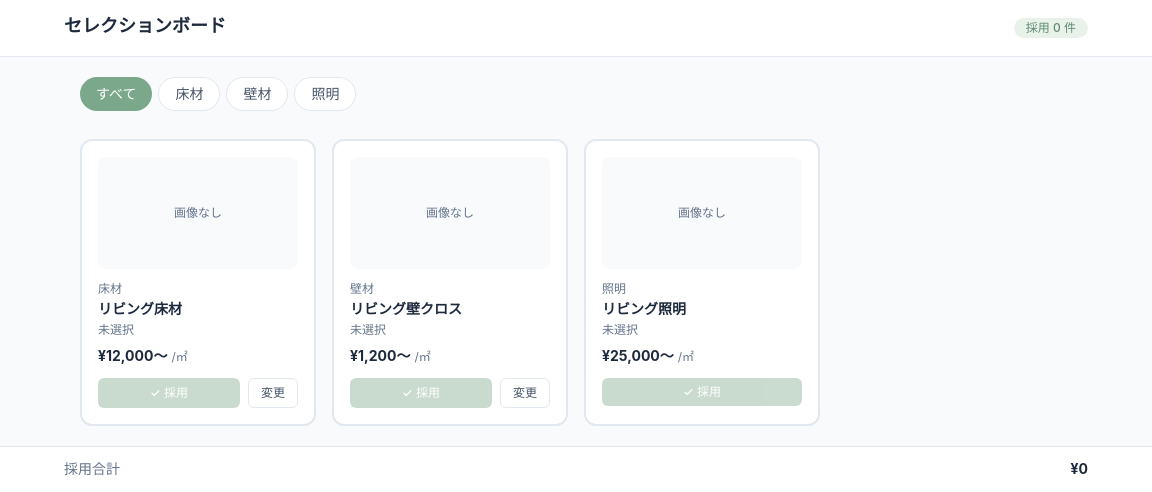
SelectionBoardPage — Sprint 3-4 新機能テスト › filter 壁材 shows only wall items
Click the button with test id "filter-壁材". click: (258, 94)
box: [226,77,288,111]
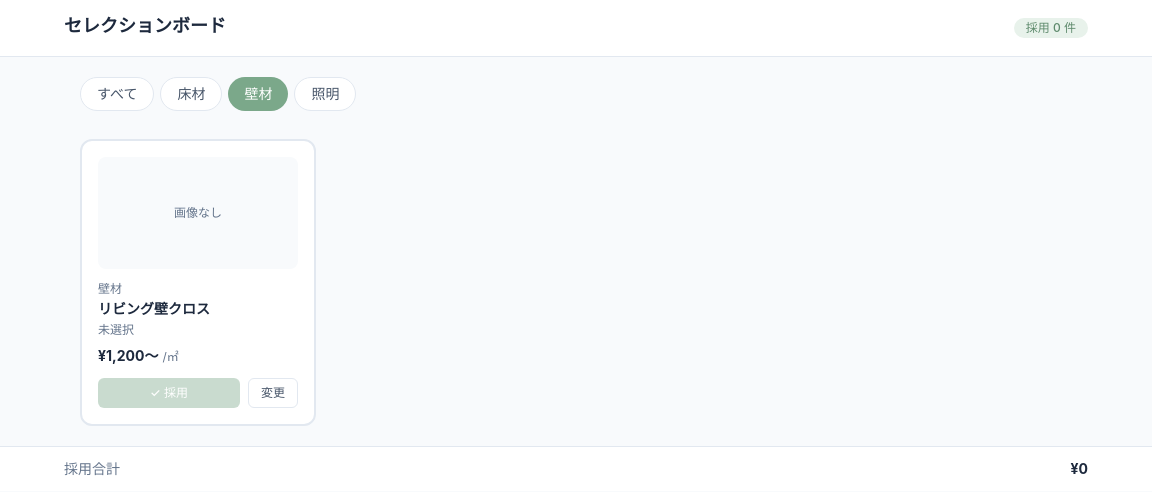
Expected: the heading "リビング壁クロス" is shown, [98,300,210,317]
Result: the number of elements with test id "material-card" is 1 at [80,139,316,426]
